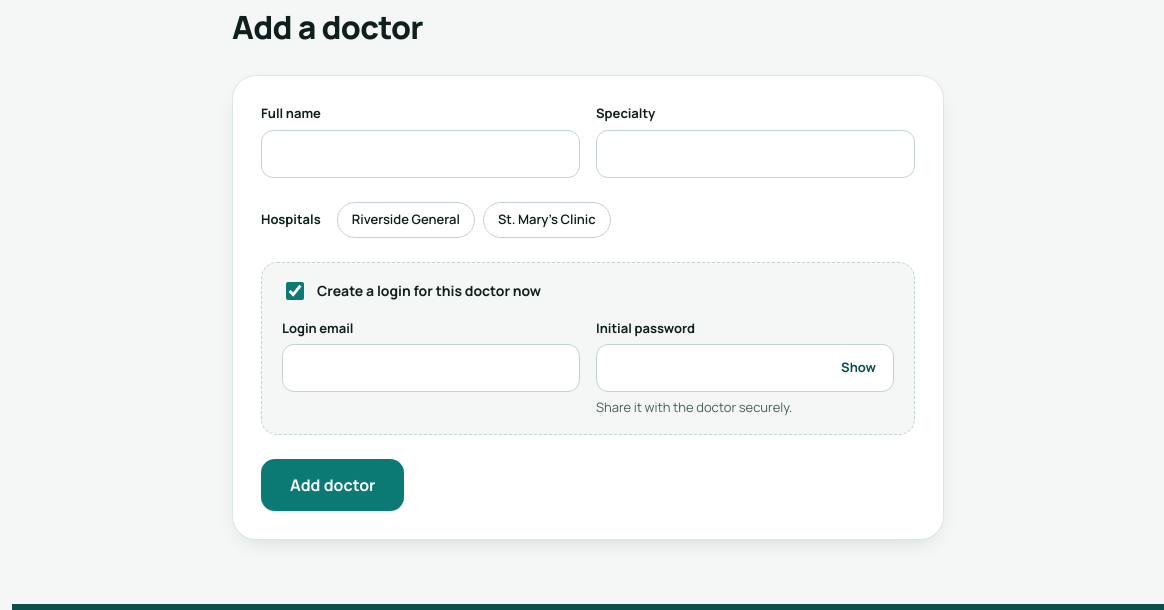
Test: add a doctor › creates the doctor with a login and opens their page
Type "Dr. Nadia Perera" into the field labelled "Full name".
click(420, 154); type("Dr. Nadia Perera")  # box 261,130 -> 580,178
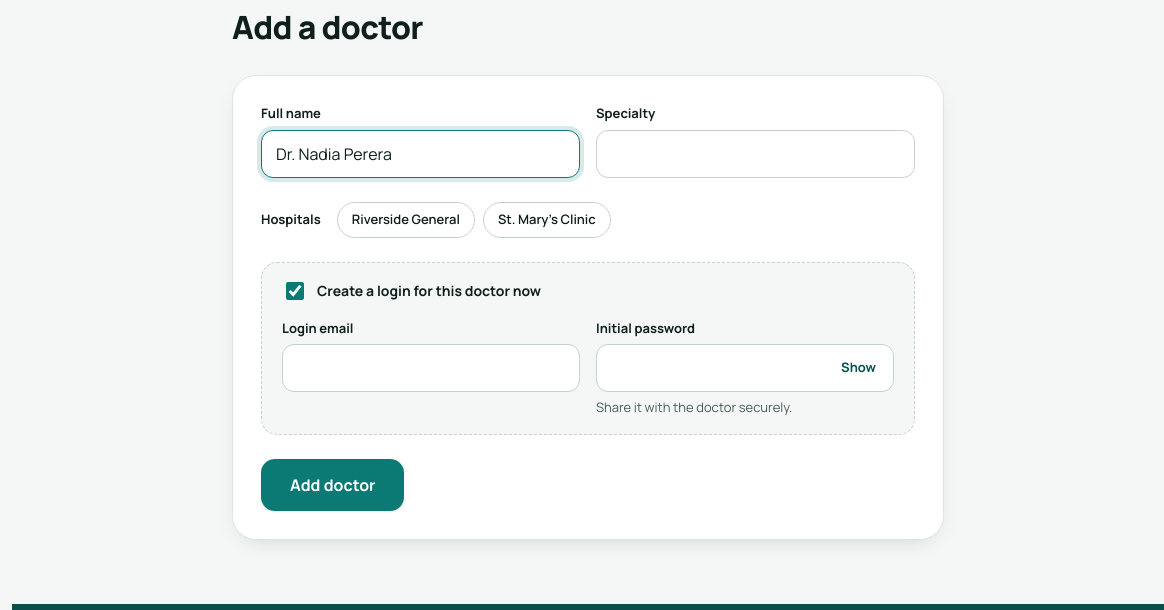
Type "Neurology" into the field labelled "Specialty".
click(756, 154); type("Neurology")  # box 596,130 -> 915,178
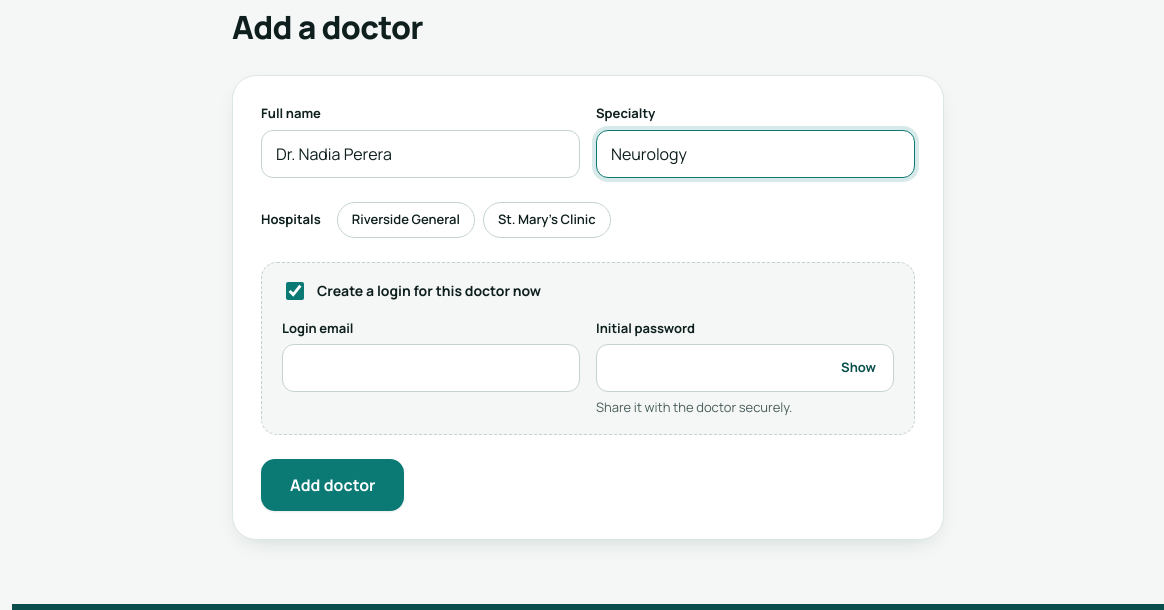
Click the checkbox labelled "Riverside General".
click(406, 220)  # box 337,202 -> 475,238
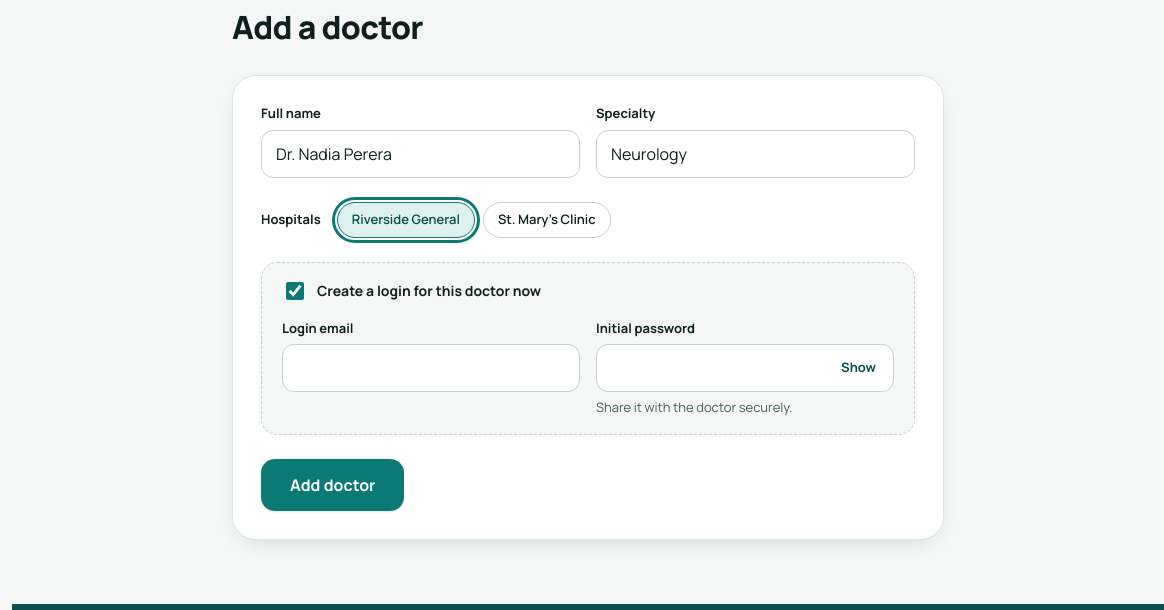
Type "nadia@clinic.test" into the field labelled "Login email".
click(431, 368); type("nadia@clinic.test")  # box 282,344 -> 580,392
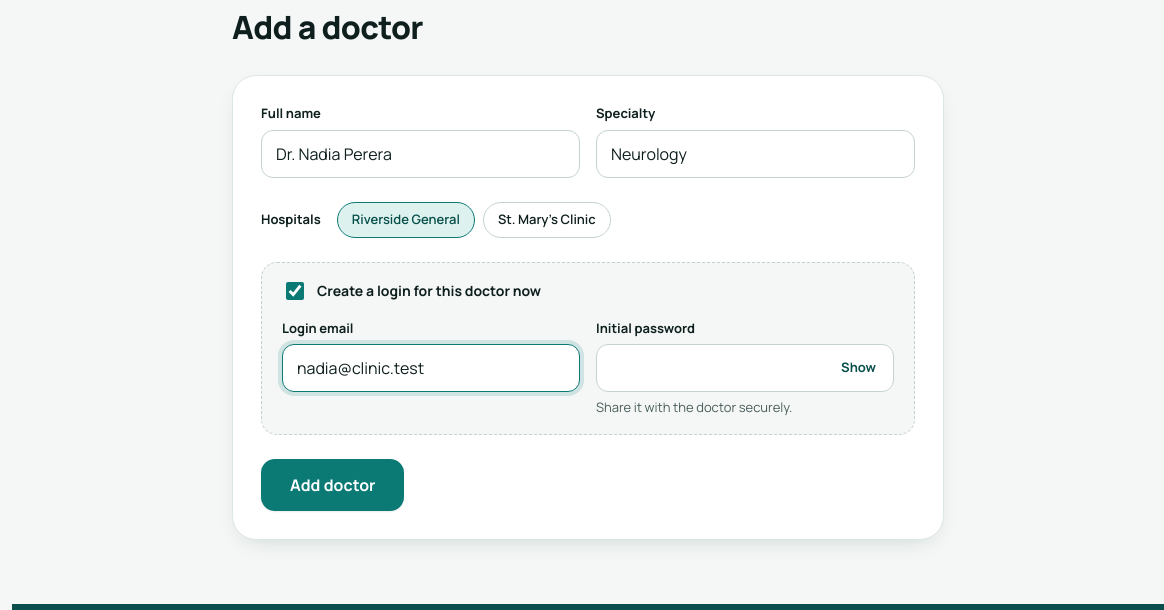
Type "initial-pass-1" into the password field labelled "Initial password".
click(745, 368); type("initial-pass-1")  # box 596,344 -> 894,392
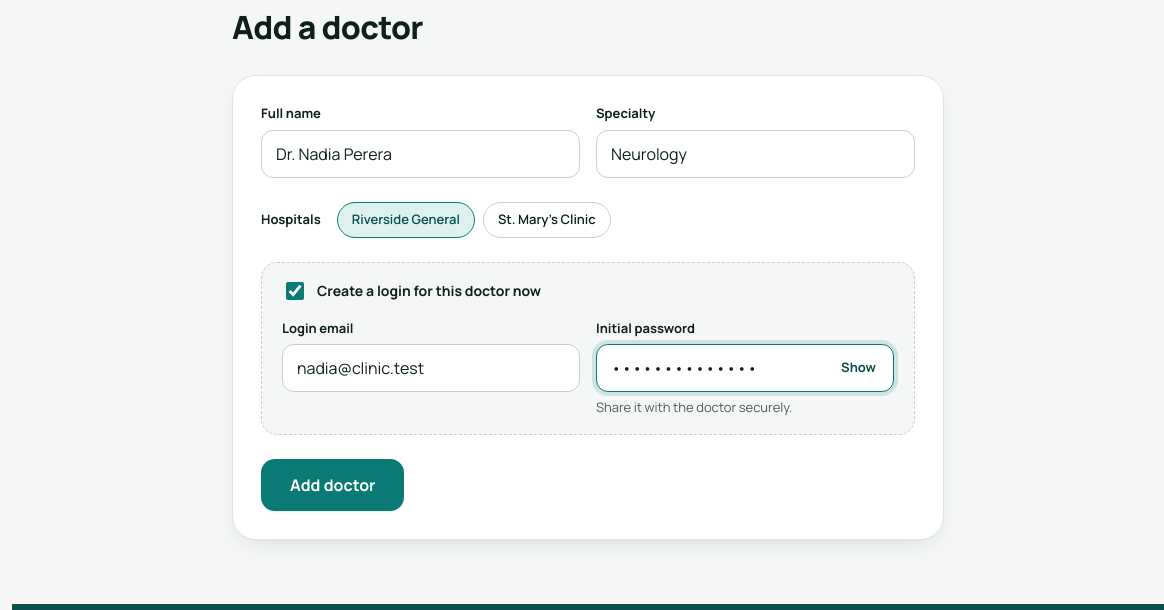
Click the button "Add doctor".
click(333, 484)  # box 261,458 -> 404,510
(page scrolled)
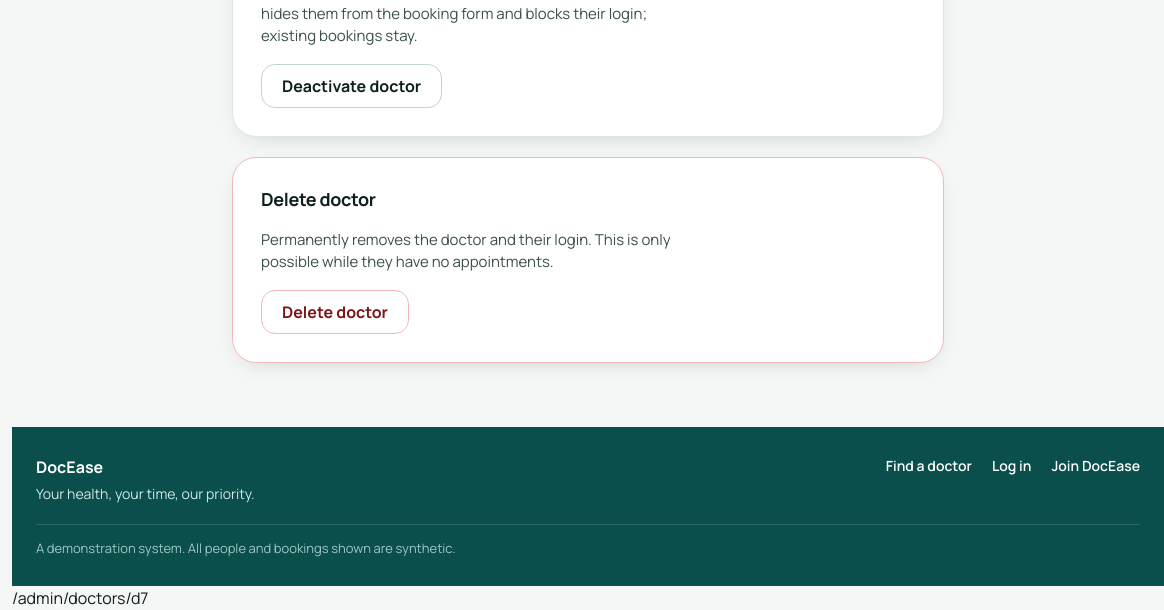
Now the text with test id "location" reads "/admin/doctors/d7", box 12,587 -> 148,609
